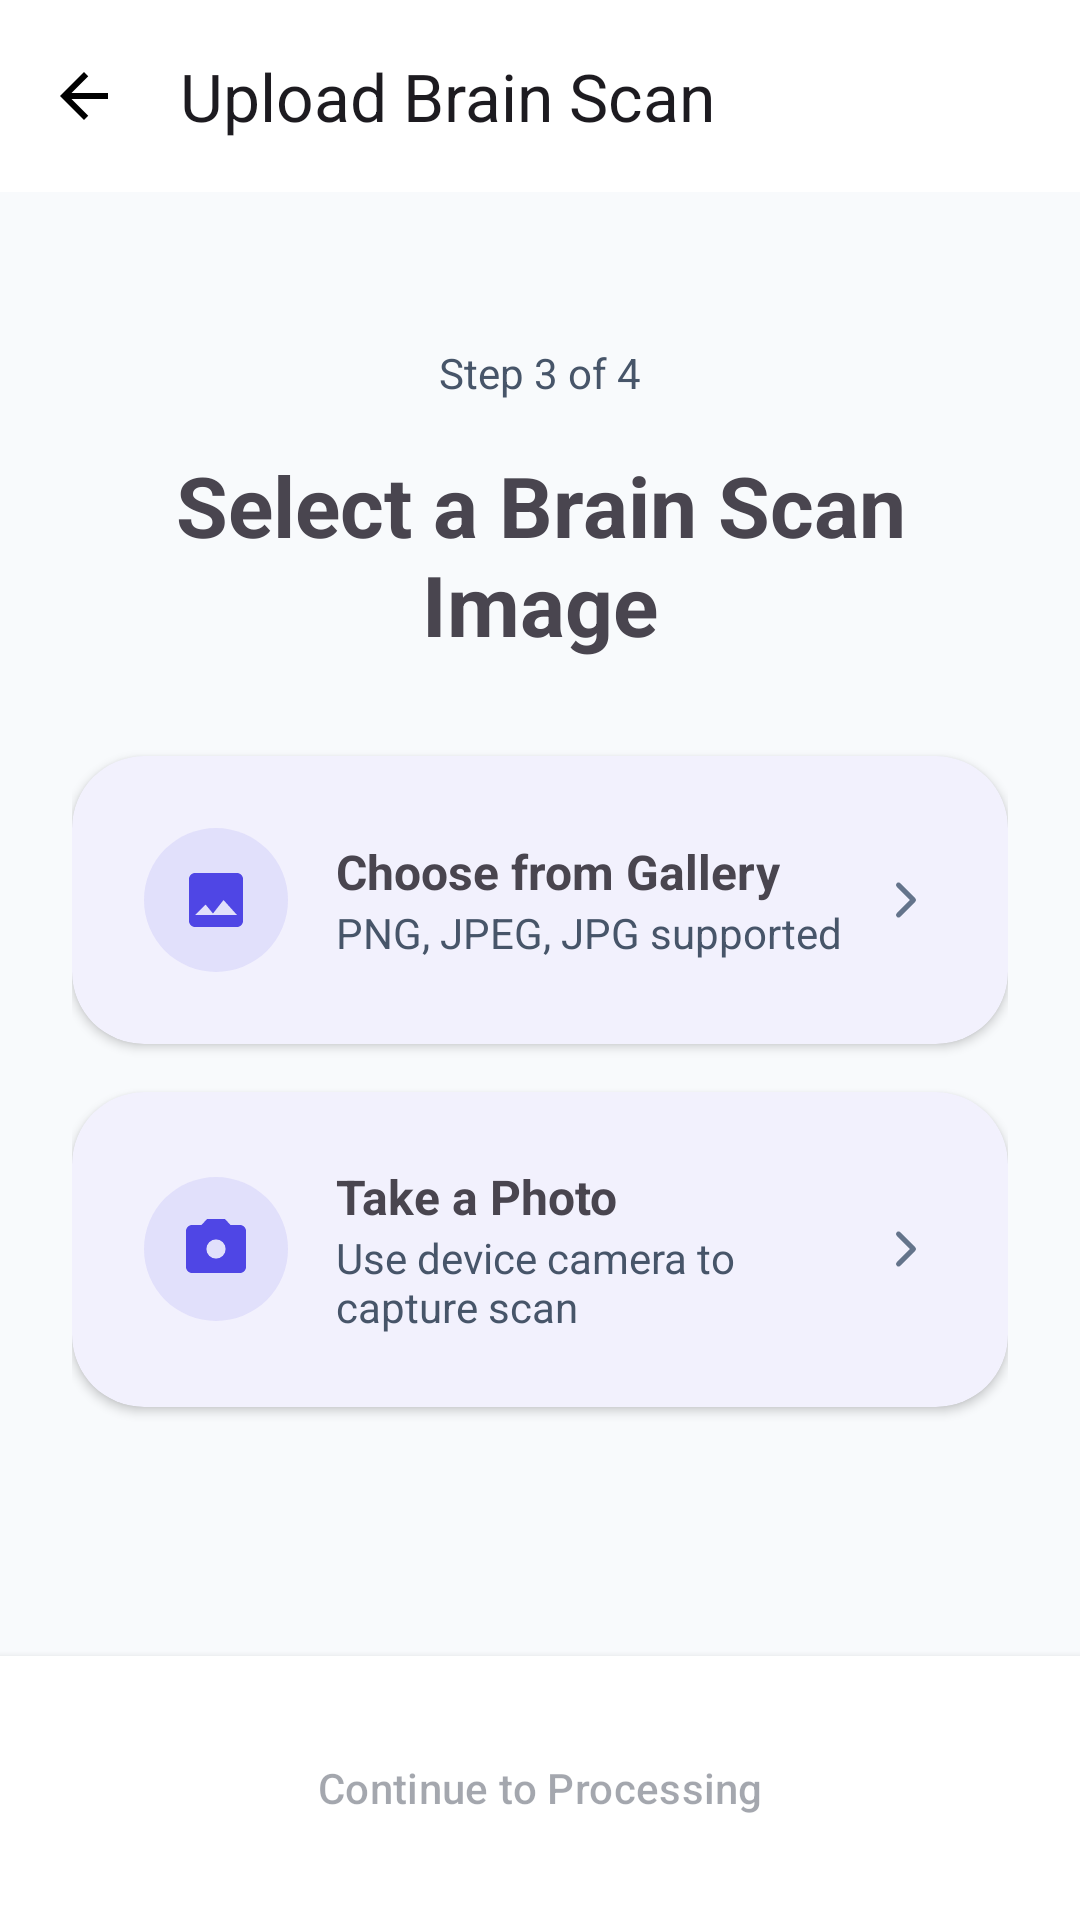

Icons on this 1080w x 1920h Android screen, each with its box as (x1, y1, x2, y2):
chevron right: (896, 882, 916, 918), (896, 1231, 916, 1267)
